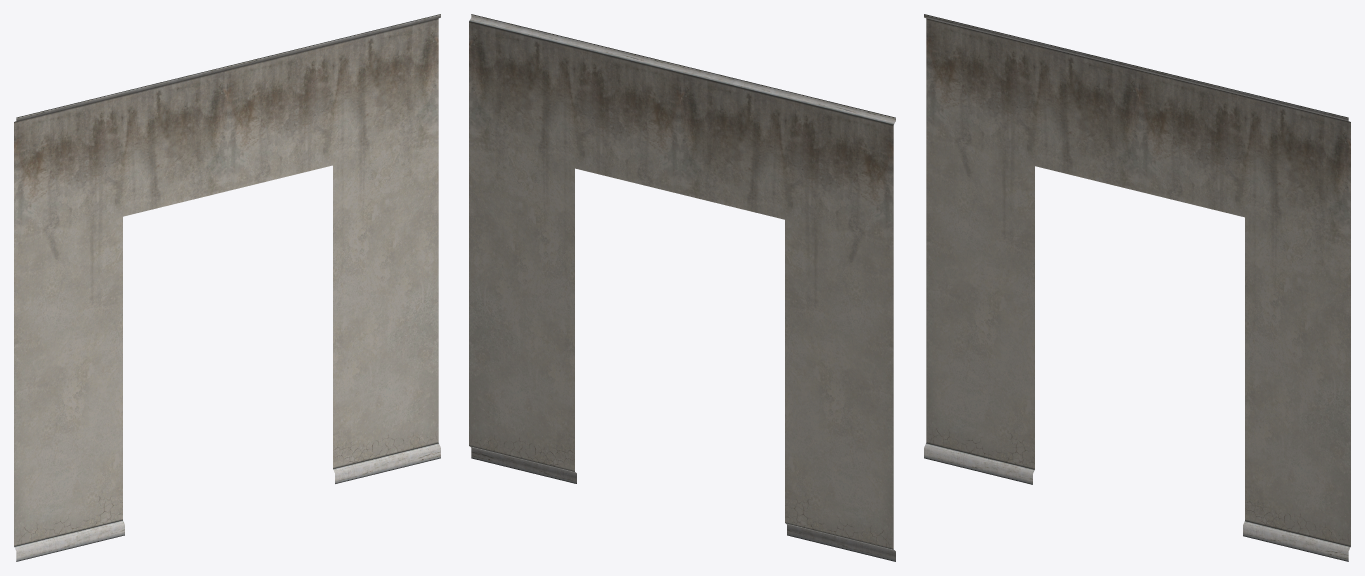
The model's file is livingroom_damaged_doorway.dae.
The picture shows the model from 3 angles, left to right: view 1: azimuth 30°, elevation 25°; view 2: azimuth 150°, elevation 25°; view 3: azimuth 330°, elevation 25°; orthographic projection.
Parts seen in each view (by area): view 1: pPlane7; view 2: pPlane7; view 3: pPlane7.
Part boxes in pixels (x1,y1,x2,y2): pPlane7: (14,14,440,561); pPlane7: (469,14,895,561); pPlane7: (924,14,1350,561).
Size of the model in its own units: 4 by 4 by 0.0341.
